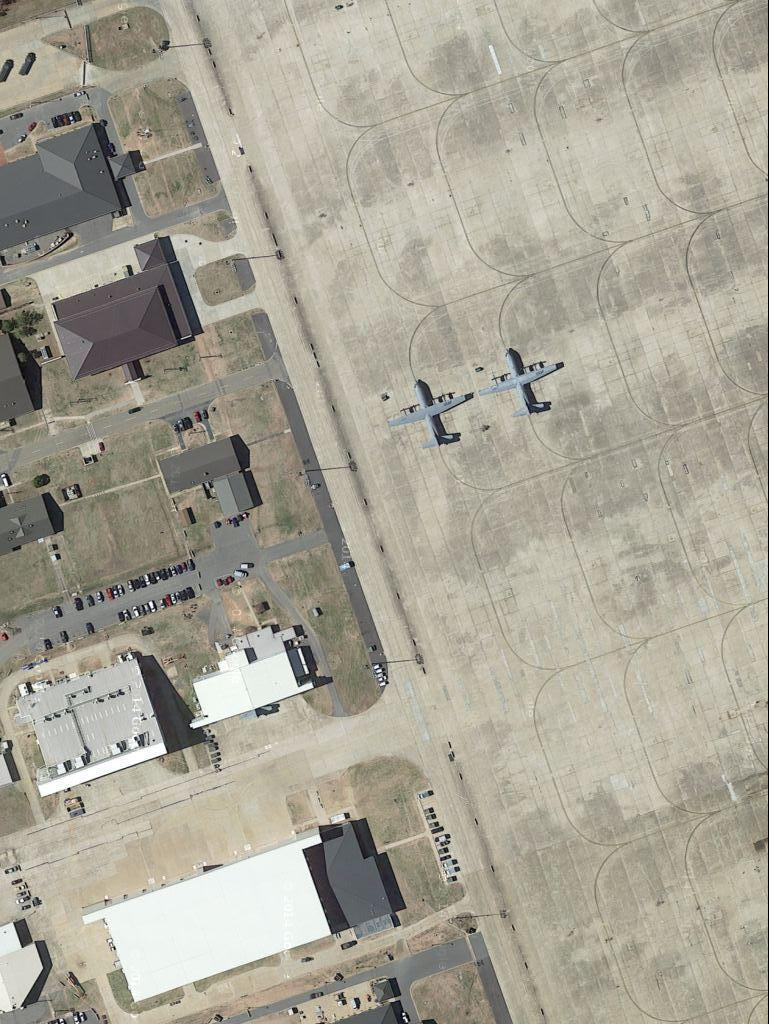C-130: (476, 347, 564, 422), (391, 378, 473, 454)
